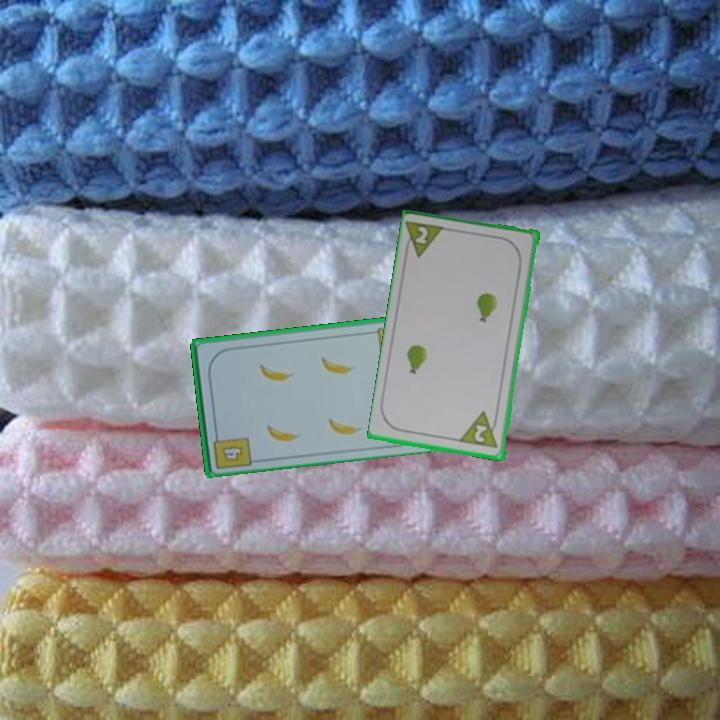2p: (401, 218, 449, 261), (457, 408, 502, 451)
4b: (209, 427, 254, 472)
